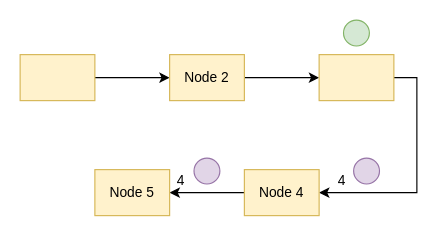
The diagram is 446 pixels wide and 236 high, and some of its shapes have lost their labels. The shapes that lost their labels are listed below. From the top down, each one's box as (x1, y1, x2, y2) in pixels, then its label:
(19, 53, 95, 101): Node 1
(318, 53, 394, 101): Node 3
